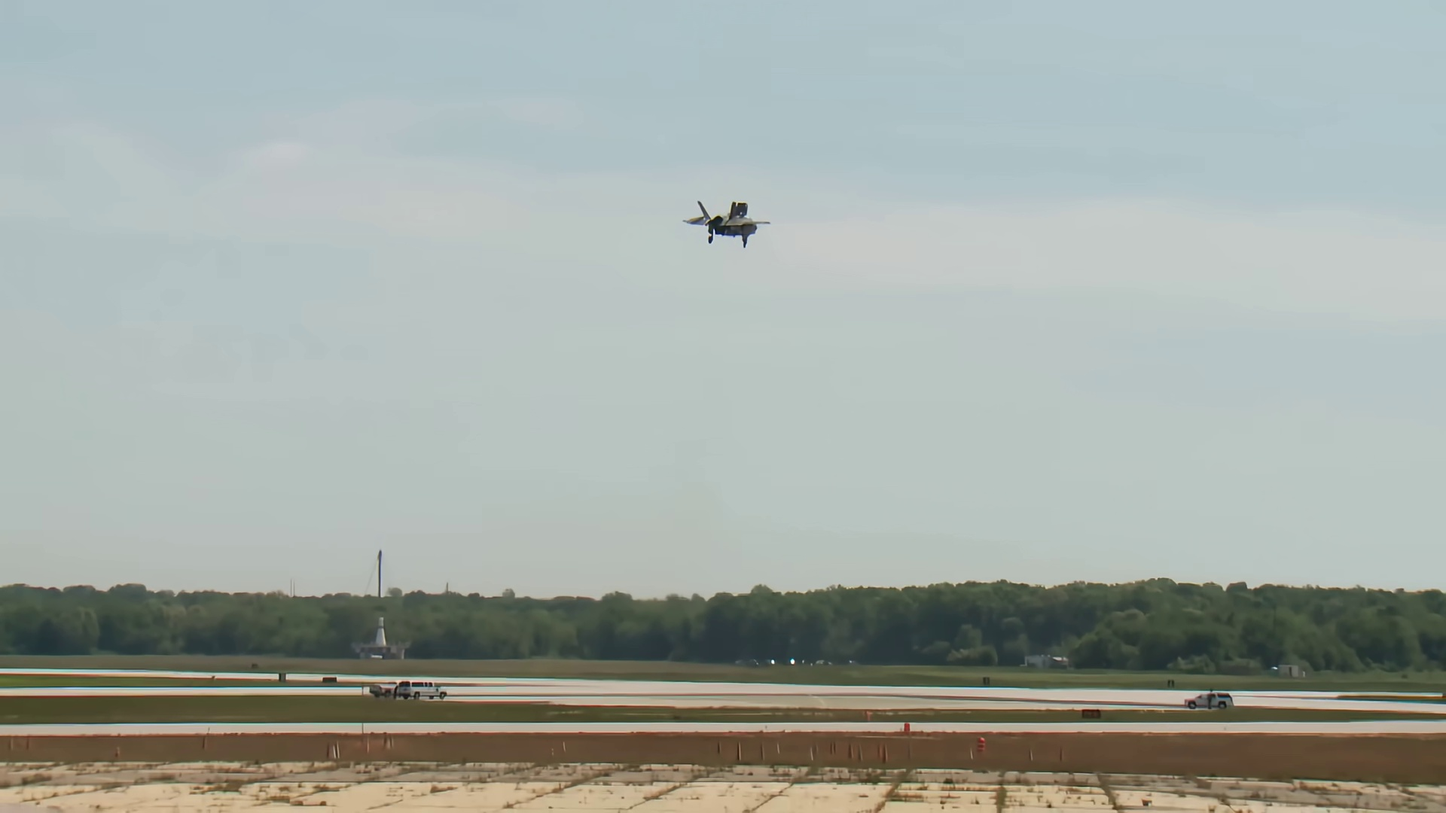F35: (682, 199, 772, 249)
